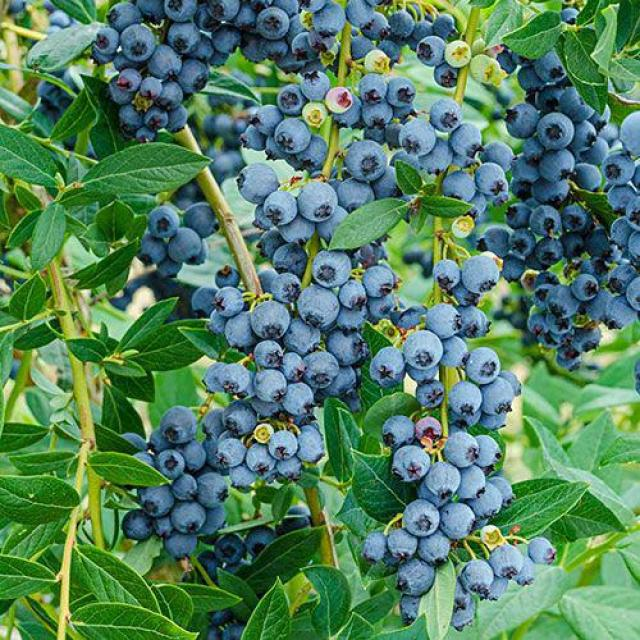BlueBerry - v1: (342, 136, 393, 186), (290, 178, 340, 224), (294, 280, 344, 326), (234, 159, 282, 206), (366, 343, 412, 392), (402, 326, 449, 372), (310, 248, 358, 292), (396, 116, 442, 160), (116, 20, 162, 64), (436, 500, 482, 544), (250, 297, 294, 342), (334, 175, 380, 218), (158, 403, 202, 447), (322, 328, 372, 366), (179, 200, 223, 243), (461, 253, 504, 297), (457, 556, 499, 600), (421, 458, 463, 501), (396, 553, 438, 596), (479, 370, 517, 417), (259, 183, 298, 228), (412, 412, 451, 457), (222, 310, 262, 353), (464, 342, 501, 388), (402, 497, 443, 538), (421, 302, 463, 342), (300, 347, 340, 389), (442, 430, 482, 472), (251, 3, 294, 42), (534, 111, 574, 152), (274, 114, 314, 155), (600, 293, 640, 334), (392, 444, 432, 485), (146, 41, 187, 81), (144, 204, 186, 243), (475, 224, 518, 262), (166, 15, 204, 58), (502, 101, 542, 141), (218, 401, 260, 439), (485, 544, 527, 582), (528, 45, 570, 83), (477, 140, 521, 176), (358, 265, 406, 298), (449, 119, 488, 159), (268, 239, 308, 278), (288, 27, 328, 66), (196, 468, 234, 509), (308, 1, 350, 38), (216, 361, 258, 398), (175, 54, 212, 96), (286, 317, 325, 356), (282, 380, 321, 419), (296, 67, 335, 106), (246, 101, 285, 140), (421, 138, 461, 176), (529, 172, 571, 208), (105, 2, 147, 38), (411, 376, 453, 412), (165, 224, 204, 262), (439, 168, 479, 205), (558, 85, 598, 122), (416, 532, 457, 568), (166, 498, 210, 531), (161, 529, 205, 562), (600, 150, 638, 188), (472, 160, 510, 198), (470, 432, 508, 470), (384, 525, 422, 563), (429, 96, 467, 134), (290, 133, 330, 169), (244, 521, 280, 561), (118, 507, 160, 541), (464, 52, 506, 86), (447, 380, 485, 417), (476, 520, 513, 558), (538, 148, 577, 184), (330, 364, 366, 403), (382, 412, 418, 451), (213, 531, 252, 567), (471, 482, 504, 524), (354, 69, 391, 106), (544, 283, 582, 319), (251, 368, 289, 404), (435, 332, 470, 371), (429, 256, 466, 292), (188, 283, 224, 320), (522, 534, 558, 571), (384, 72, 421, 108), (140, 483, 179, 517), (375, 165, 406, 207), (332, 302, 368, 338), (275, 80, 311, 116), (315, 205, 349, 243), (456, 463, 488, 503), (572, 116, 602, 158), (210, 23, 246, 58), (448, 602, 483, 638), (604, 179, 638, 215), (528, 203, 564, 237), (302, 20, 338, 54), (277, 215, 316, 246), (215, 436, 250, 470), (296, 424, 325, 464), (268, 271, 302, 305), (440, 37, 474, 71), (360, 529, 394, 563), (252, 228, 287, 261), (430, 59, 465, 92), (250, 338, 286, 370), (201, 360, 233, 396), (416, 33, 448, 69), (394, 590, 425, 627), (618, 109, 640, 161), (151, 451, 189, 481), (429, 9, 462, 43), (302, 101, 335, 135), (136, 230, 168, 265), (338, 279, 370, 314), (116, 101, 148, 136), (575, 156, 605, 193), (202, 406, 232, 443), (275, 457, 314, 485), (504, 201, 538, 233), (582, 225, 614, 259), (214, 284, 248, 316), (584, 290, 616, 324), (571, 322, 603, 356), (168, 472, 202, 504), (532, 235, 568, 265), (490, 472, 520, 508), (448, 282, 485, 311), (359, 100, 396, 129), (162, 100, 190, 138), (113, 62, 146, 94), (361, 8, 392, 42), (608, 214, 635, 253), (453, 303, 480, 342), (341, 0, 377, 29), (556, 203, 592, 232), (279, 349, 309, 383), (268, 429, 298, 463), (245, 441, 275, 475), (210, 262, 246, 290), (201, 0, 243, 24), (255, 36, 292, 63), (156, 80, 187, 112), (505, 227, 539, 256), (387, 9, 416, 43), (158, 0, 200, 23), (154, 253, 186, 283), (324, 86, 356, 116), (133, 0, 166, 29), (500, 251, 528, 285), (201, 438, 229, 472), (202, 504, 230, 538), (571, 274, 604, 302), (557, 229, 587, 259), (607, 262, 637, 292), (543, 307, 573, 337), (282, 508, 318, 533), (493, 46, 522, 77), (238, 123, 266, 155), (578, 255, 610, 283), (366, 293, 398, 321), (197, 549, 225, 581), (361, 48, 393, 76), (179, 442, 209, 471), (147, 428, 181, 453), (91, 27, 120, 56), (510, 173, 538, 203), (142, 102, 170, 132), (404, 364, 442, 386), (476, 412, 513, 434), (518, 137, 548, 164), (150, 513, 177, 543), (516, 65, 546, 92), (474, 308, 496, 344), (448, 212, 476, 240), (410, 16, 438, 44), (482, 578, 510, 606), (598, 120, 621, 154), (523, 311, 553, 337), (206, 600, 236, 626), (515, 558, 540, 589), (538, 85, 566, 112), (556, 5, 588, 28), (264, 133, 290, 161), (584, 138, 609, 166), (241, 40, 266, 68), (139, 74, 164, 101), (206, 308, 230, 336), (534, 283, 557, 311), (258, 265, 280, 294), (623, 192, 640, 229), (624, 272, 640, 311), (596, 102, 616, 132), (509, 43, 532, 68), (216, 623, 247, 640), (534, 270, 562, 288), (626, 228, 640, 260), (628, 161, 640, 192), (556, 342, 574, 362)
